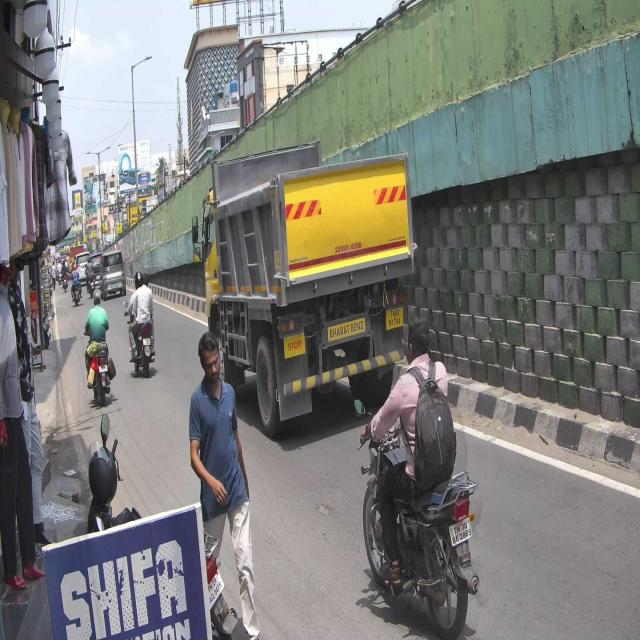single_rider: (351, 314, 481, 640)
